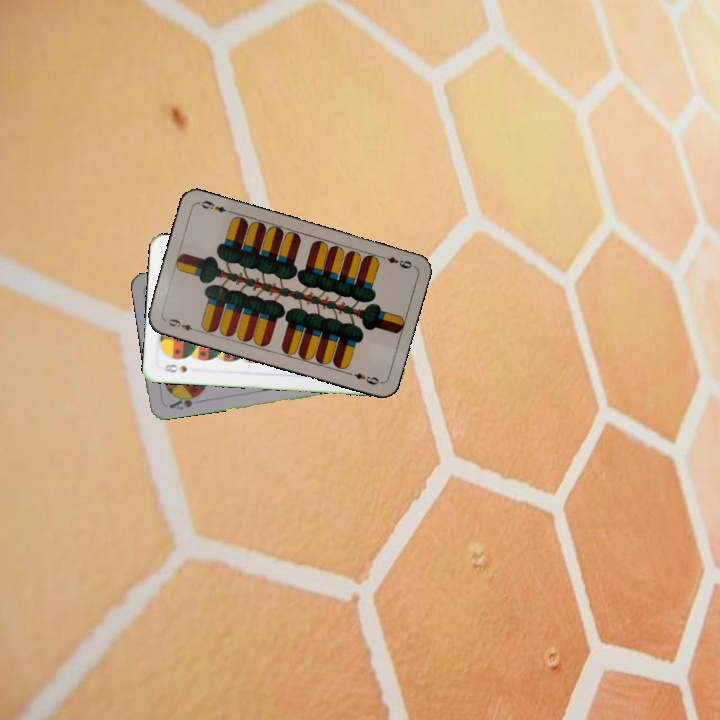E9: (161, 314, 201, 334), (376, 252, 415, 271)
S8: (160, 360, 190, 375)
SA: (165, 390, 203, 413)
